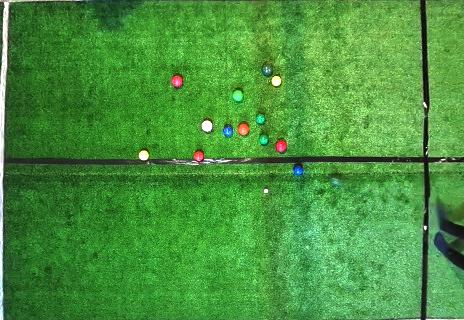blue: (293, 164, 304, 175), (223, 125, 233, 137)
green: (330, 174, 343, 187), (232, 89, 244, 101), (262, 64, 273, 76), (259, 134, 269, 146), (256, 114, 266, 125)
red: (275, 141, 287, 154), (171, 75, 183, 87), (238, 123, 249, 136), (193, 151, 204, 162), (202, 120, 212, 132)
vline: (419, 0, 463, 319), (0, 0, 13, 319)
white: (264, 189, 268, 193)
yellow: (138, 150, 150, 161), (271, 76, 282, 87)
